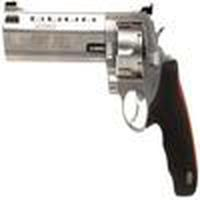gun: (4, 2, 200, 195)
